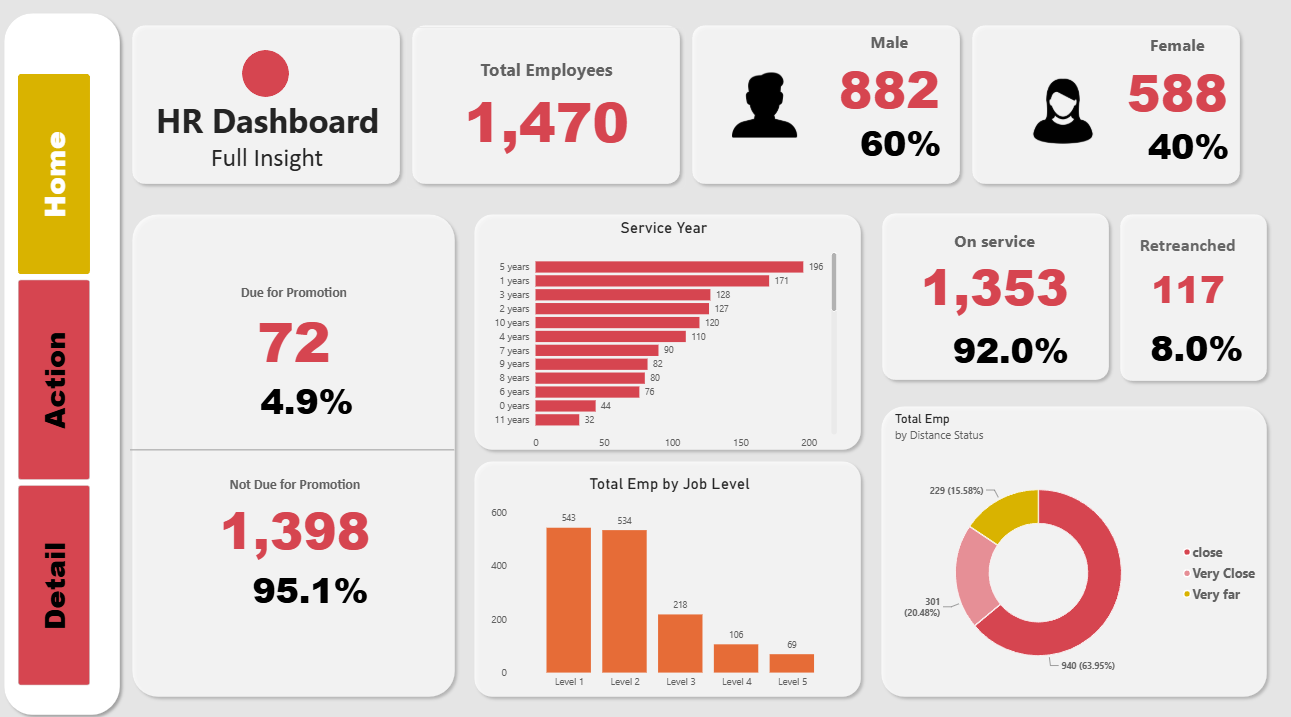

This screenshot's page, from the dashboard's own definition file:
{"tool":"powerbi","page":{"name":"Home","canvas":[1920,1080],"ordinal":0},"visuals":[{"type":"shape","box":[10.2,21.9,186.7,1041.7],"z":0},{"type":"shape","box":[197,39.4,408.5,249.5],"z":1000},{"type":"shape","box":[605.5,39.4,408.5,249.5],"z":2000},{"type":"shape","box":[1014,39.4,408.5,249.5],"z":3000},{"type":"shape","box":[1422.5,39.4,408.5,249.5],"z":4000},{"type":"shape","box":[197,315.1,488.8,722.2],"z":5000},{"type":"shape","box":[695.9,315.1,582.1,361.8],"z":6000},{"type":"shape","box":[695.9,675.5,582.1,361.8],"z":7000},{"type":"shape","box":[1291.2,313.7,348.7,261.2],"z":8000},{"type":"shape","box":[1638.4,315.1,232,261.2],"z":9000},{"type":"shape","box":[1289.7,595.3,580.7,442.1],"z":10000},{"type":"textbox","box":[240.7,153.2,338.5,135.7],"z":11000},{"type":"shape","box":[366.2,84.6,68.6,68.6],"z":12000},{"type":"cardVisual","fields":{"Data":["All Measures.Total Emp"]},"box":[605.5,51.1,408.5,237.8],"z":13000},{"type":"cardVisual","fields":{"Data":["All Measures.Male"]},"box":[1218.2,51.1,185.3,147.4],"z":14000},{"type":"cardVisual","fields":{"Data":["All Measures.% male"]},"box":[1250.3,164.9,153.2,108],"z":15000},{"type":"cardVisual","fields":{"Data":["All Measures.Female"]},"box":[1638.2,55.2,185.3,147.4],"z":16000},{"type":"cardVisual","fields":{"Data":["All Measures.% female"]},"box":[1670.3,169,153.2,108],"z":17000},{"type":"image","box":[1081.1,74.4,94.8,180.9],"z":18000},{"type":"image","box":[1511.5,74.4,105,198.4],"z":19000},{"type":"cardVisual","fields":{"Data":["All Measures.Due for Promotion"]},"box":[291.8,345.8,300,300],"z":20000},{"type":"cardVisual","fields":{"Data":["All Measures.% Due for Promotion"]},"box":[345,543.3,233.3,106.7],"z":21000},{"type":"cardVisual","fields":{"Data":["All Measures.Not Due for Promotion"]},"box":[293.3,621.5,300,300],"z":22000},{"type":"cardVisual","fields":{"Data":["All Measures.% Not due"]},"box":[326.7,816.7,278.3,108.3],"z":23000},{"type":"shape","box":[203.3,518.3,473.3,300],"z":24000},{"type":"barChart","title":"Service Year","fields":{"Category":["HR Analytics Data.Sevice Year"],"Y":["All Measures.Total Emp"]},"box":[713.3,315,536.7,373.3],"z":25000},{"type":"columnChart","fields":{"Category":["HR Analytics Data.Job Level"],"Y":["All Measures.Total Emp"]},"box":[713.3,688.3,553.3,348.3],"z":26000},{"type":"cardVisual","fields":{"Data":["All Measures.On service"]},"box":[1320,328.3,288.3,170],"z":27000},{"type":"cardVisual","fields":{"Data":["All Measures.% on service"]},"box":[1366.7,466.7,241.7,108.3],"z":28000},{"type":"cardVisual","title":"Retreanched","fields":{"Data":["All Measures.Will be Retreanched"]},"box":[1601.7,353.3,288.3,113.3],"z":29000},{"type":"cardVisual","fields":{"Data":["All Measures.% Will be retreanched"]},"box":[1638.3,463.3,241.7,108.3],"z":30000},{"type":"donutChart","fields":{"Category":["HR Analytics Data.Distance Status"],"Y":["All Measures.Total Emp"]},"box":[1303.3,598.3,566.7,440],"z":31000},{"type":"pageNavigator","box":[39.4,119.6,105,894.3],"z":32000}]}

Visuals, with their boxes in screenshot pixels (x1, y1, x2, y2), scaled from the page's 1920x1080 canvas onto the 1291x717 screenshot:
shape: 7:15:132:706
shape: 132:26:407:192
shape: 407:26:682:192
shape: 682:26:956:192
shape: 956:26:1231:192
shape: 132:209:461:689
shape: 468:209:859:449
shape: 468:448:859:689
shape: 868:208:1103:382
shape: 1102:209:1258:383
shape: 867:395:1258:689
textbox: 162:102:389:192
shape: 246:56:292:102
cardVisual - All Measures.Total Emp: 407:34:682:192
cardVisual - All Measures.Male: 819:34:944:132
cardVisual - All Measures.% male: 841:109:944:181
cardVisual - All Measures.Female: 1102:37:1226:135
cardVisual - All Measures.% female: 1123:112:1226:184
image: 727:49:791:169
image: 1016:49:1087:181
cardVisual - All Measures.Due for Promotion: 196:230:398:429
cardVisual - All Measures.% Due for Promotion: 232:361:389:432
cardVisual - All Measures.Not Due for Promotion: 197:413:399:612
cardVisual - All Measures.% Not due: 220:542:407:614
shape: 137:344:455:543
"Service Year" barChart: 480:209:840:457
columnChart - HR Analytics Data.Job Level x All Measures.Total Emp: 480:457:852:688
cardVisual - All Measures.On service: 888:218:1081:331
cardVisual - All Measures.% on service: 919:310:1081:382
"Retreanched" cardVisual: 1077:235:1271:310
cardVisual - All Measures.% Will be retreanched: 1102:308:1264:379
donutChart - HR Analytics Data.Distance Status x All Measures.Total Emp: 876:397:1257:689
pageNavigator: 26:79:97:673
